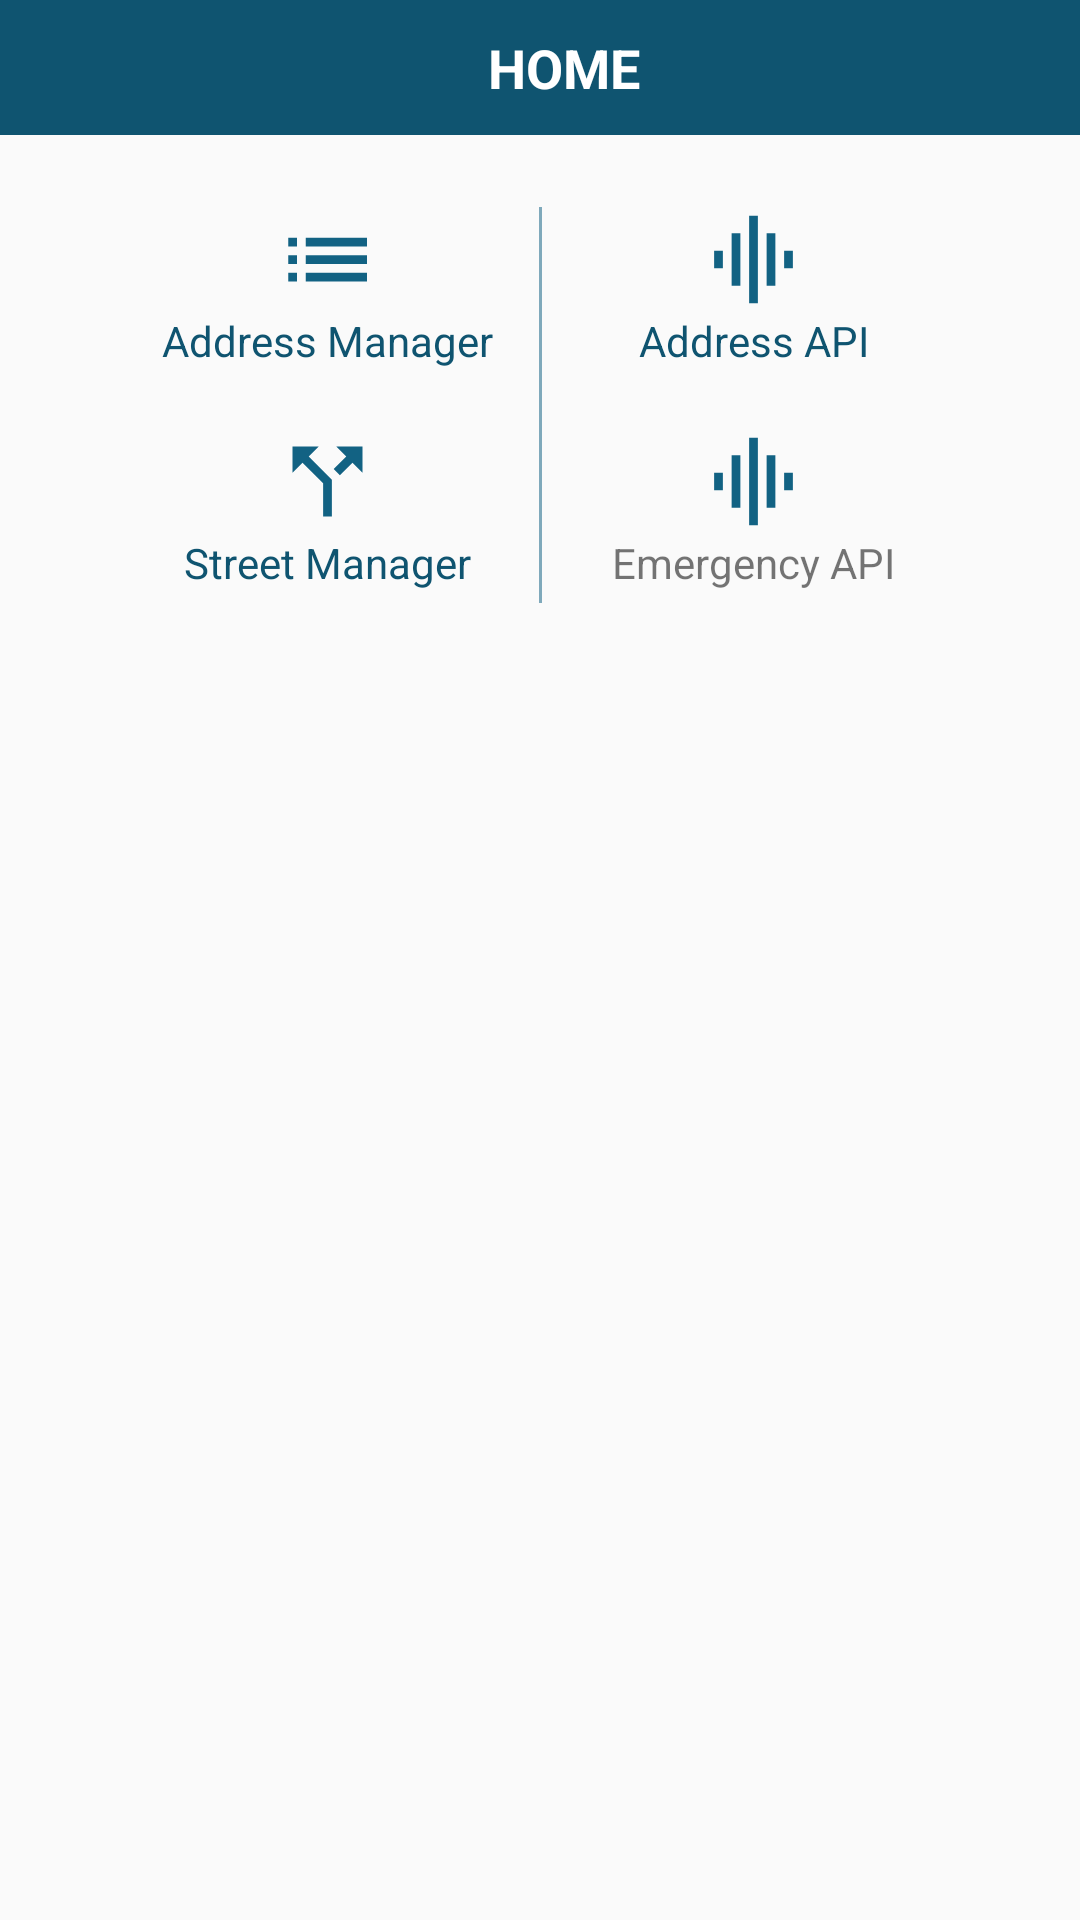

Where icons sit on this 1080px x 1920px app screen, as (x1, y1, x2, y2):
call split: (292, 446, 363, 517)
graphic eq: (714, 215, 793, 304), (714, 437, 793, 526)
list: (288, 237, 367, 282)
